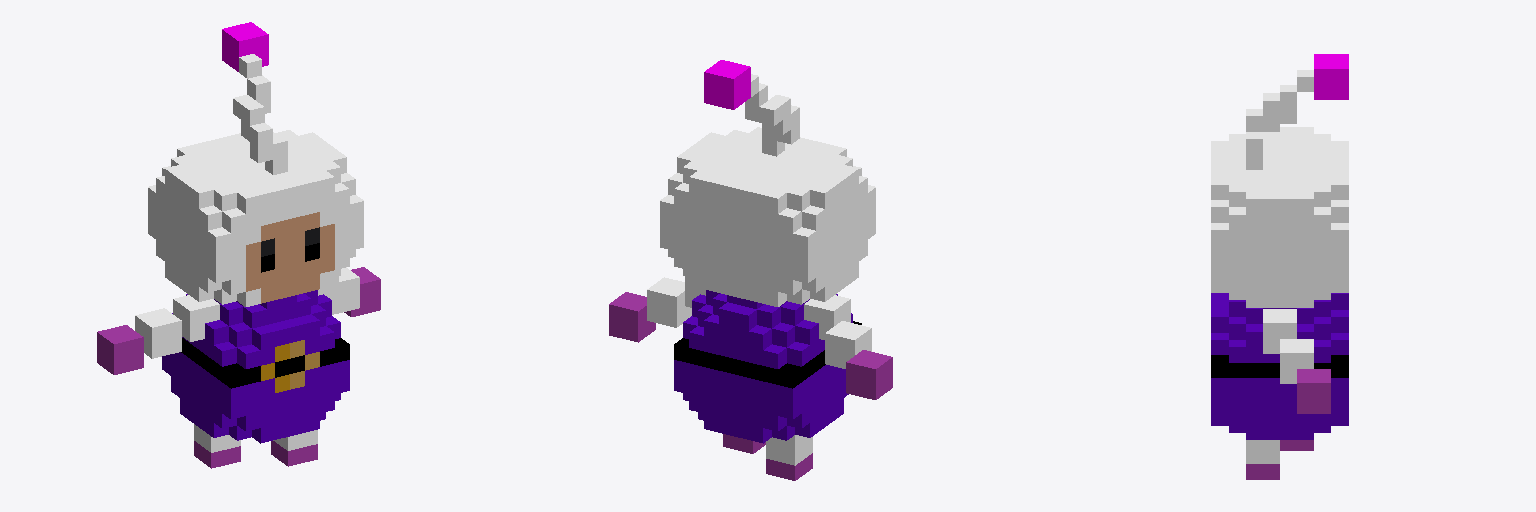
3 views of the same model, side by side, from view 1: azimuth 30°, elevation 25°; view 2: azimuth 150°, elevation 25°; view 3: azimuth 270°, elevation 25° (orthographic).
Visible parts, largest first — view 1: bboi_run3; view 2: bboi_run3; view 3: bboi_run3.
Part boxes in pixels (left/top/right/bottom): bboi_run3: left=97, top=22, right=380, bottom=468; bboi_run3: left=609, top=60, right=892, bottom=480; bboi_run3: left=1211, top=54, right=1348, bottom=479.
Size of the model in its own units: 18 by 26 by 8.
1 materials, 1 textured.